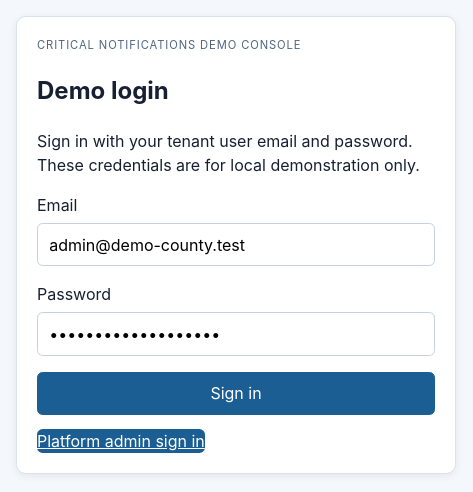
it: App authentication shell › clicking "Platform admin sign in" switches to the platform login, and back returns to tenant login
What coordinates should you click on to do the following:
click the button "Platform admin sign in"
I would click on:
 (121, 442)
Its box is [37, 430, 205, 454].
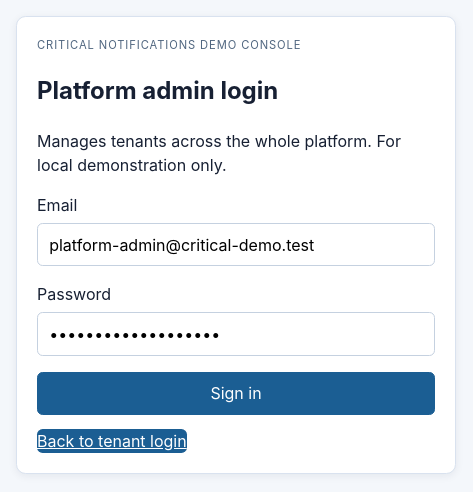
Expected: the heading "Platform admin login" is shown, [37, 76, 278, 105]
What coordinates should you click on to do the following:
click the button "Back to tenant login"
I would click on:
 (112, 442)
Its box is [37, 430, 187, 454].
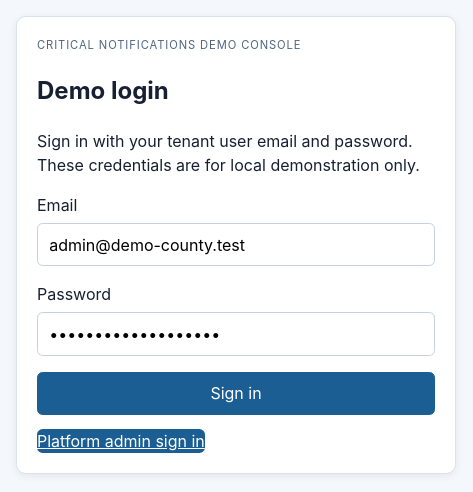
Expected: the heading "Demo login" is shown, [37, 76, 169, 105]
